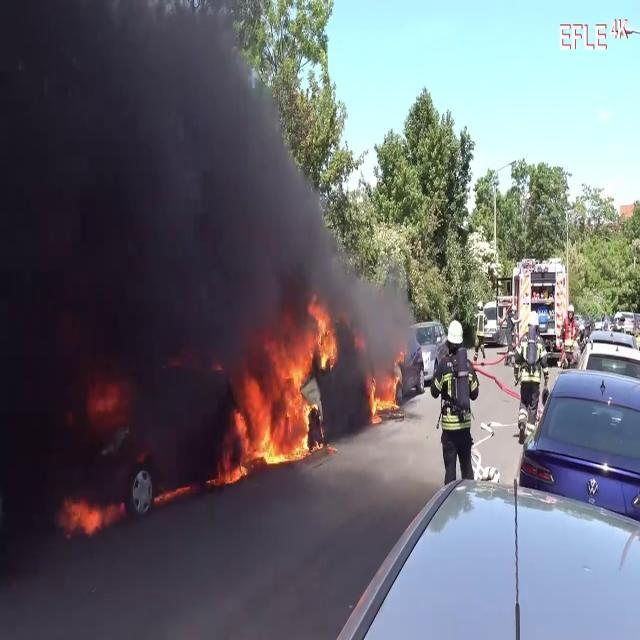Fire: (225, 302, 338, 472), (55, 488, 119, 542), (367, 364, 405, 422)
Smoke: (0, 2, 342, 408), (330, 248, 416, 378)
